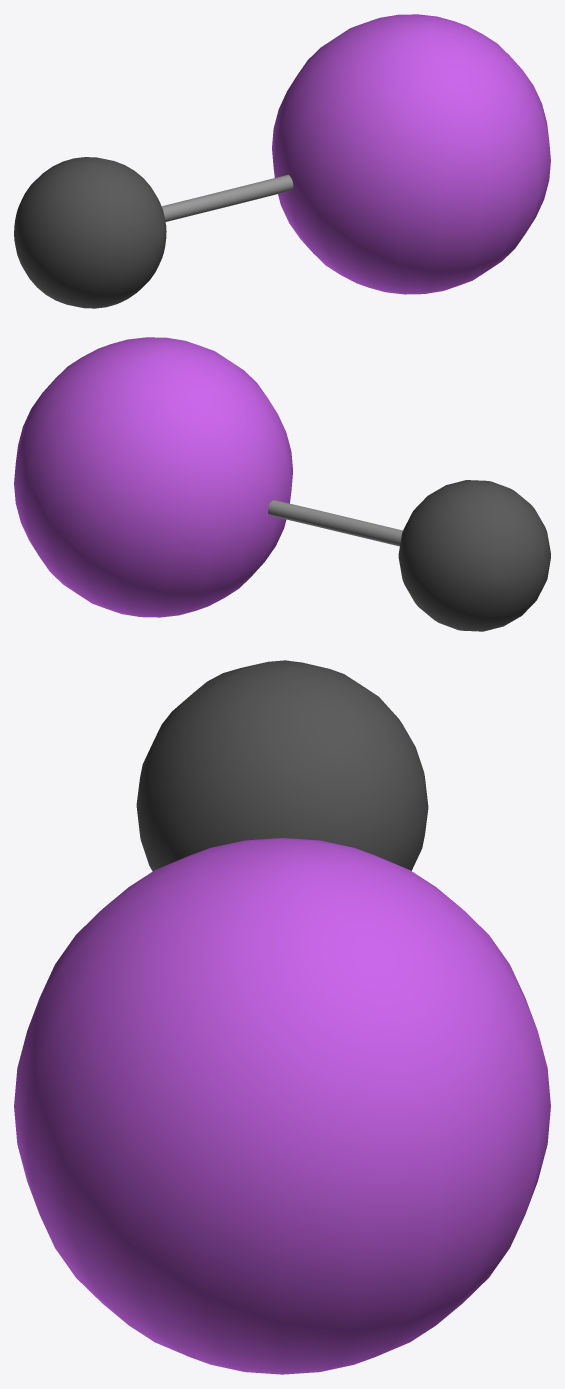
File: SiC.fbx
3 renders of one model, top to bottom at view 1: azimuth 30°, elevation 25°; view 2: azimuth 150°, elevation 25°; view 3: azimuth 270°, elevation 25°, orthographic. The views are drawn at different scales.
Visible parts, largest first — view 1: SiC; view 2: SiC; view 3: SiC.
Part boxes in pixels (x1,y1,x2,y2): SiC: (14, 14, 550, 308); SiC: (14, 337, 550, 631); SiC: (14, 660, 550, 1374).
Size of the model in its own units: 6.42 by 3.07 by 3.07.
